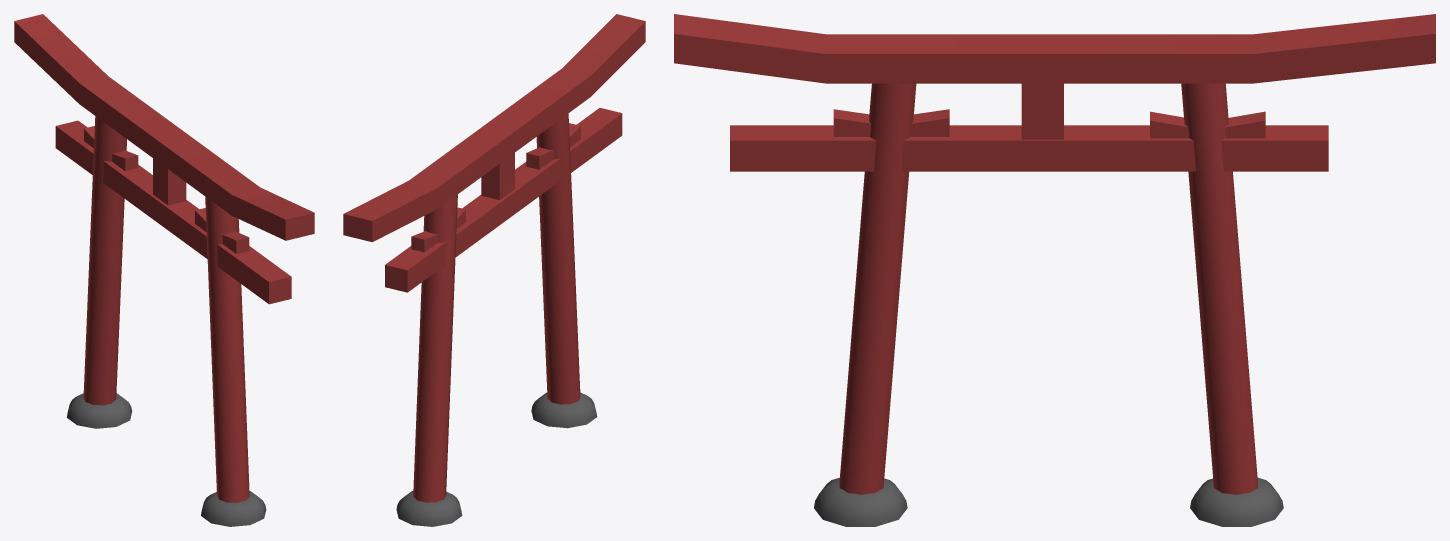
File: torii.fbx
3 views of the same model, side by side, from view 1: azimuth 30°, elevation 25°; view 2: azimuth 150°, elevation 25°; view 3: azimuth 270°, elevation 25° (orthographic). The views are drawn at different scales.
Parts seen in each view (by area): view 1: Torii; view 2: Torii; view 3: Torii.
Boxes of the visible parts, bbox=[...] form: Torii: bbox=[14, 14, 314, 526]; Torii: bbox=[343, 14, 645, 526]; Torii: bbox=[674, 14, 1435, 526].
Bounding box in the file's own units: 0.6866 × 4.12 × 5.86.
